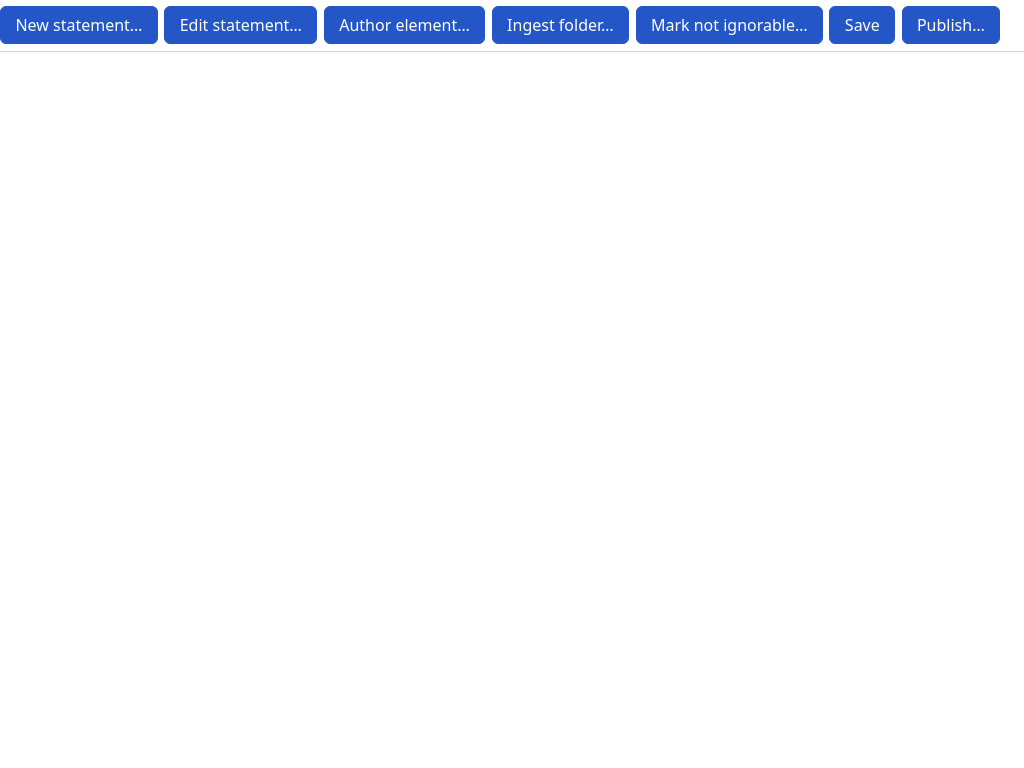
Test case: publish_dialog › offenders_are_listed
Click the button "Publish…": (951, 25) left=902, top=6, right=1000, bottom=44
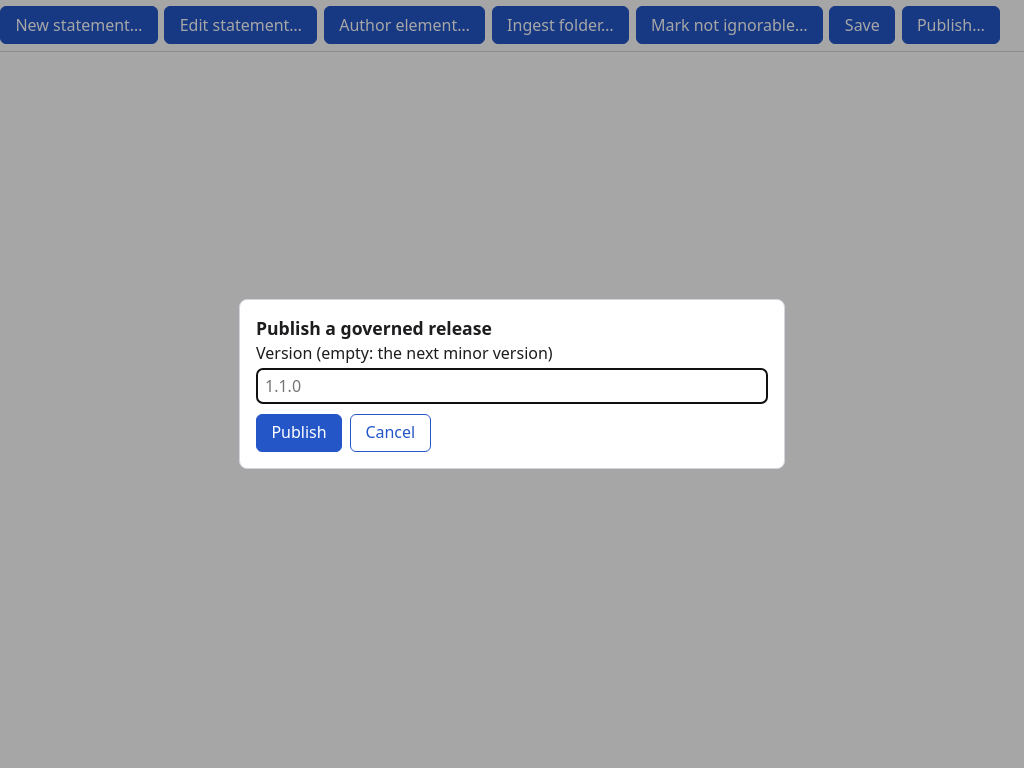
Click the button "Publish": (299, 433) left=256, top=414, right=342, bottom=452
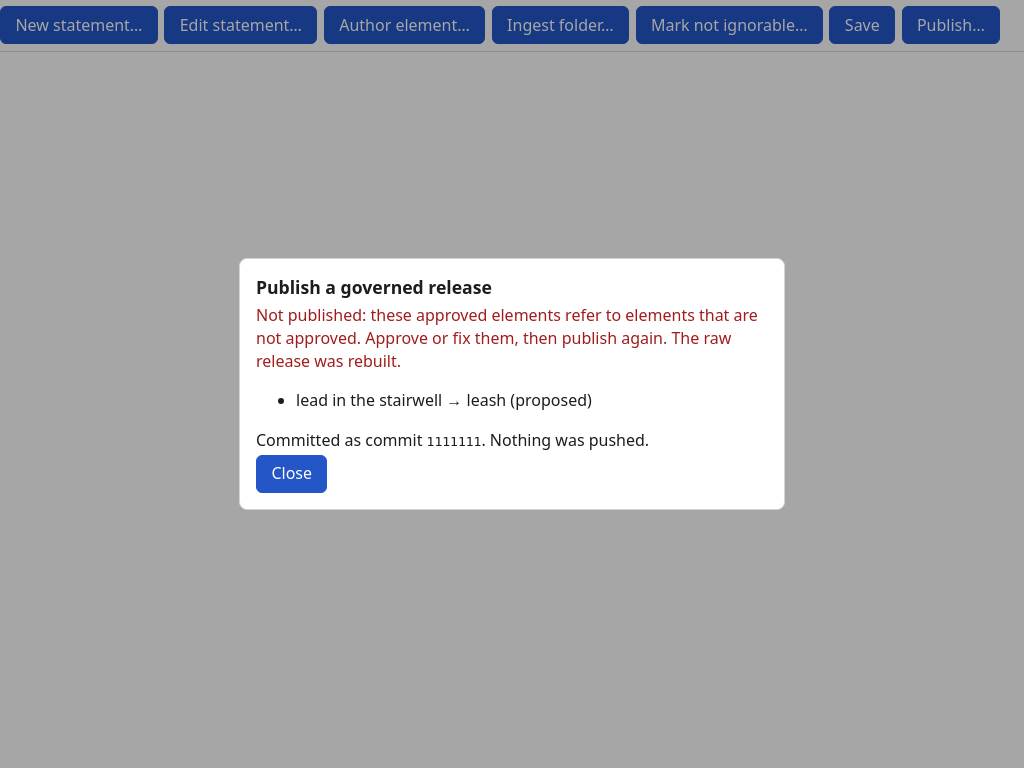
Now the message shows "Not published", box left=256, top=304, right=758, bottom=372
Now the dialog shows "lead in the stairwell", box left=296, top=389, right=442, bottom=411
Now the dialog shows "leash", box left=466, top=389, right=506, bottom=411
